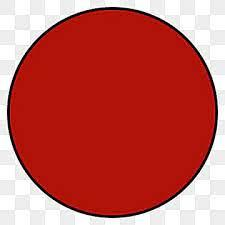red_circle: (7, 6, 218, 217)
